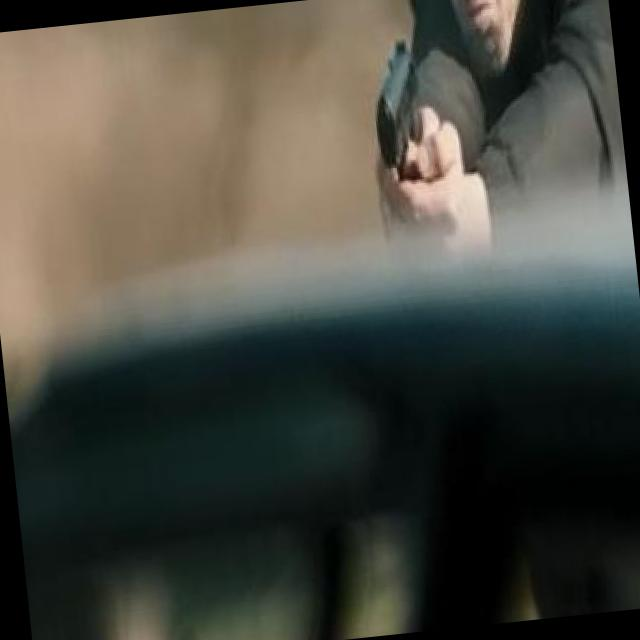Guns: (350, 5, 460, 220)
